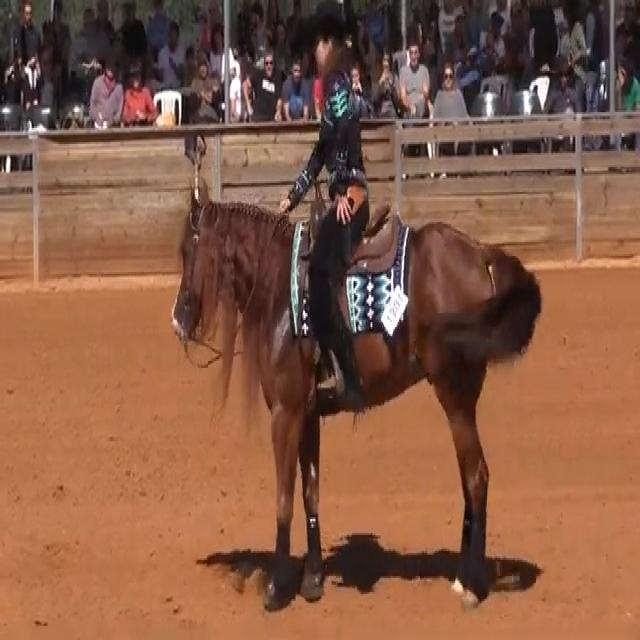horse: (169, 185, 543, 610)
